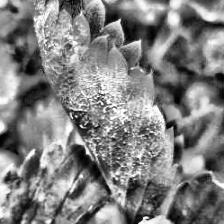Powdery Mildew Leaf: (17, 0, 184, 224), (0, 140, 112, 224), (163, 171, 224, 224)
